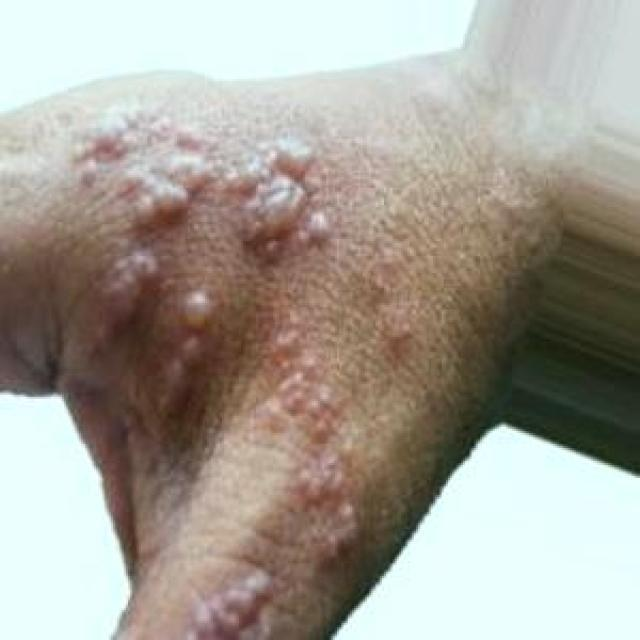Shingles: (57, 96, 333, 258), (264, 293, 371, 568), (84, 241, 161, 365), (158, 283, 214, 435), (176, 567, 276, 640)
